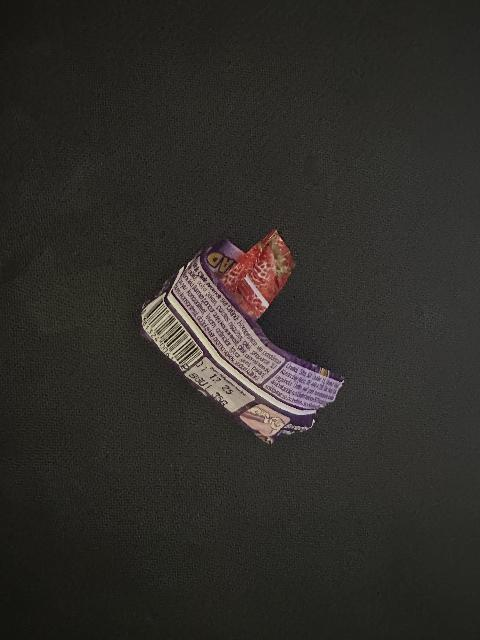Plastik: (146, 232, 341, 448)
